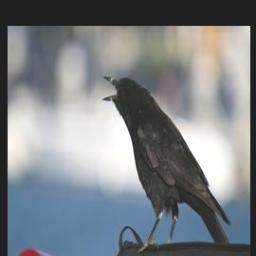Crow: (101, 72, 233, 256)
